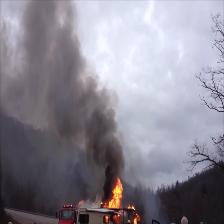fire: (107, 173, 124, 208)
smoke: (28, 6, 66, 112), (89, 107, 121, 173), (67, 67, 89, 137)
